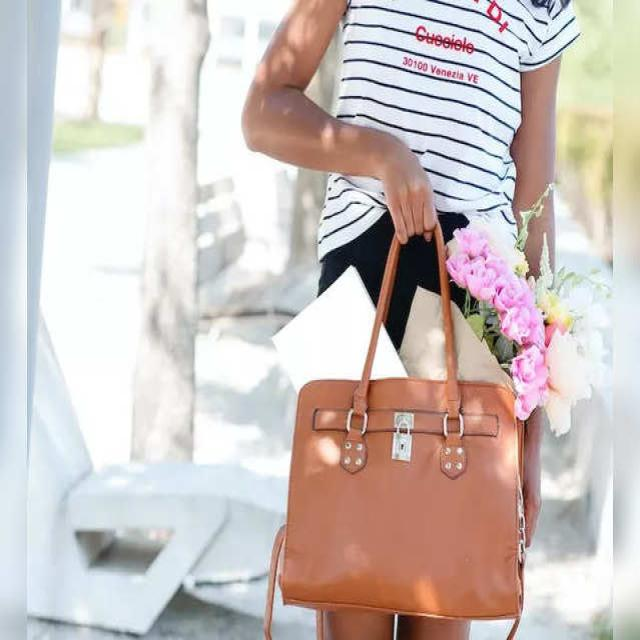handbag: (274, 218, 529, 630)
